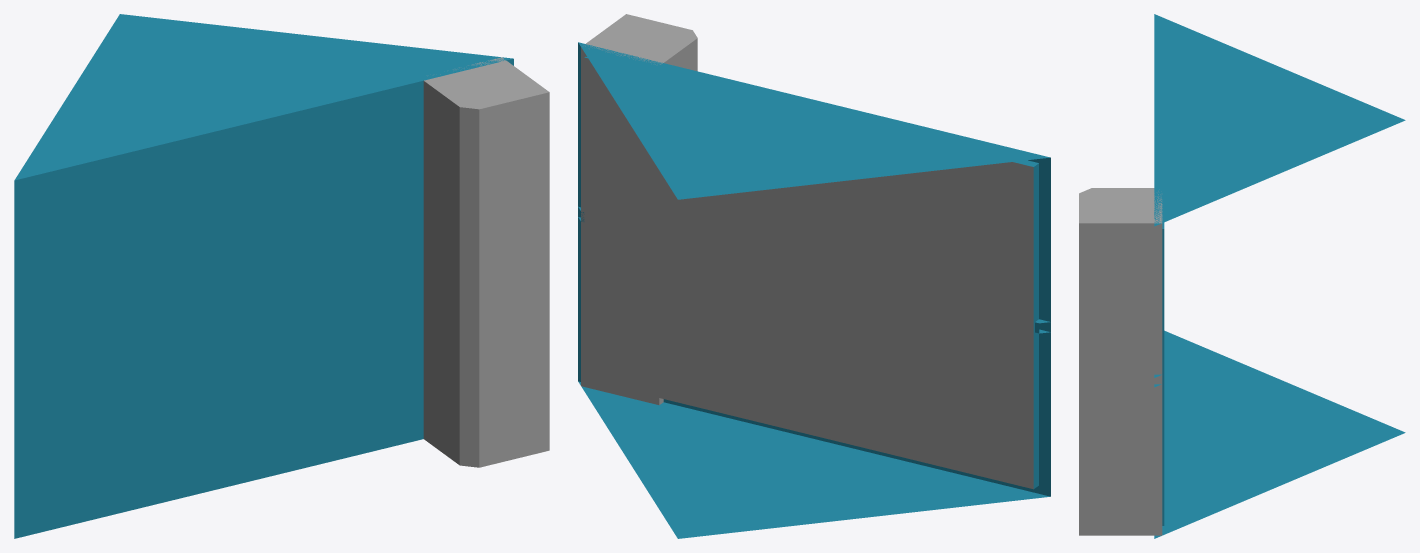
The model's file is Corner.fbx.
The picture shows the model from 3 angles, left to right: view 1: azimuth 30°, elevation 25°; view 2: azimuth 150°, elevation 25°; view 3: azimuth 270°, elevation 25°; orthographic projection. The views are drawn at different scales.
Parts seen in each view (by area): view 1: lod0 (×5); view 2: lod0 (×5); view 3: lod0 (×6).
Boxes of the visible parts, x1,y1,x2,y2 form: lod0 (×5): (14, 14, 549, 538); lod0 (×5): (578, 14, 1050, 538); lod0 (×6): (1079, 14, 1405, 538).
Size of what is drawn, in the model's own units: 4.38 by 3 by 2.85.
